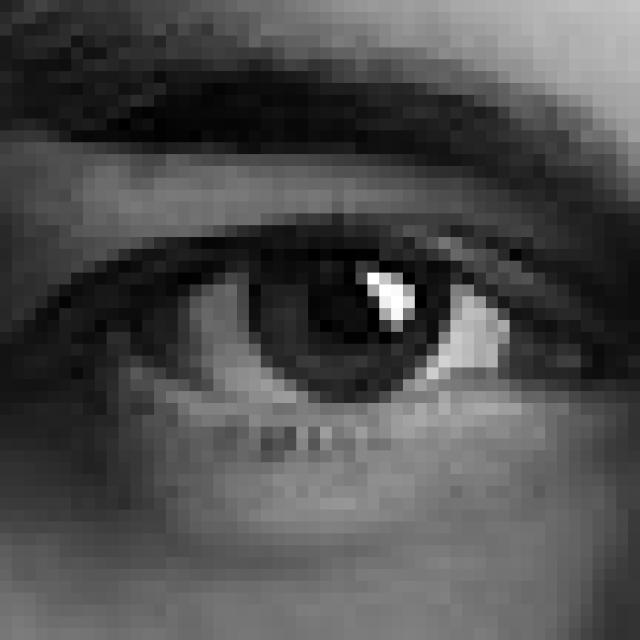eye: (24, 135, 631, 539)
gaze: (241, 220, 457, 406)
